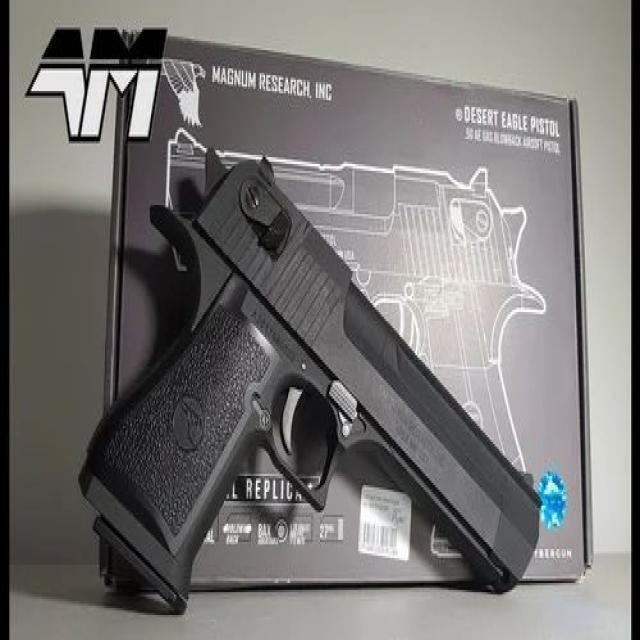handgun: (75, 144, 559, 628)
